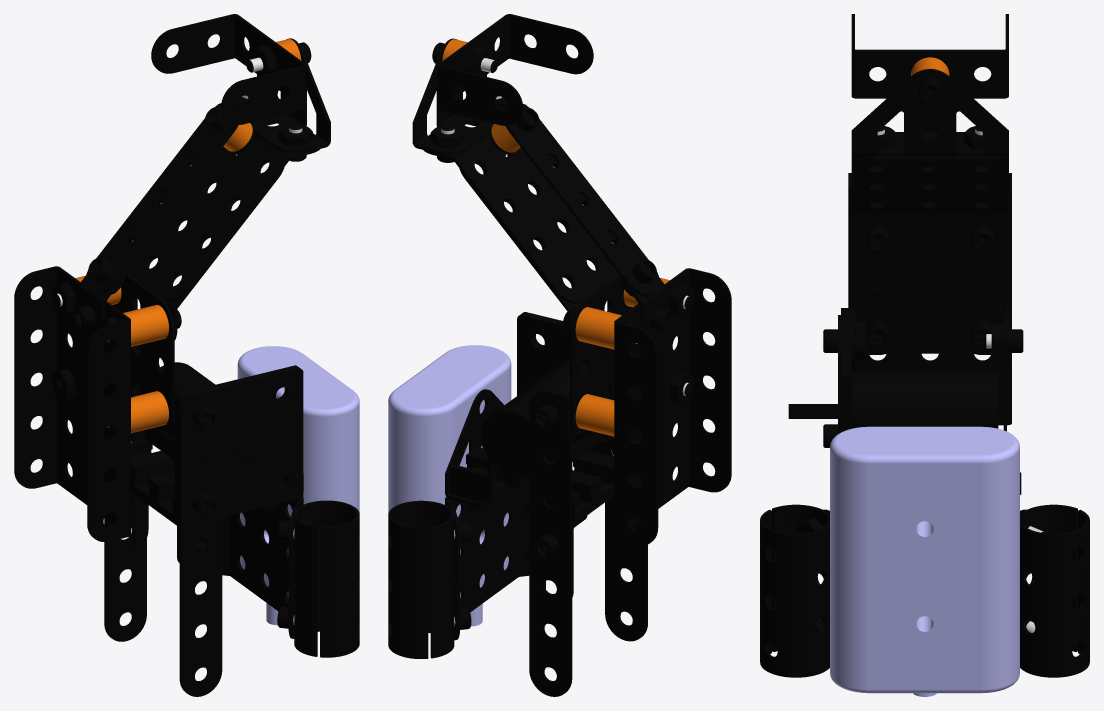
3 views of the same model, side by side, from view 1: azimuth 30°, elevation 25°; view 2: azimuth 150°, elevation 25°; view 3: azimuth 270°, elevation 25° (orthographic). The views are drawn at different scales.
Parts seen in each view (by area): view 1: matte zinc, polished nickel, matte zinc-4, cast iron, white-pw-mt11050, white-pw-mt11050-2; view 2: matte zinc, polished nickel, matte zinc-4, cast iron, white-pw-mt11050, white-pw-mt11050-2; view 3: white-pw-mt11050, matte zinc, polished nickel, matte zinc-4, cast iron, polished bronze.
Part boxes in pixels (box(x1,y1,x2,y2)): matte zinc: box(52, 14, 359, 696); polished nickel: box(14, 266, 174, 542); matte zinc-4: box(126, 103, 319, 638); cast iron: box(131, 362, 303, 527); white-pw-mt11050: box(237, 346, 359, 625); white-pw-mt11050-2: box(75, 39, 301, 433); matte zinc: box(388, 14, 693, 696); polished nickel: box(570, 268, 731, 546); matte zinc-4: box(423, 104, 619, 640); cast iron: box(450, 312, 614, 524); white-pw-mt11050: box(388, 345, 511, 626); white-pw-mt11050-2: box(442, 39, 669, 436); white-pw-mt11050: box(830, 426, 1019, 696); matte zinc: box(760, 14, 1089, 677); polished nickel: box(848, 173, 1011, 425); matte zinc-4: box(814, 155, 1035, 621); cast iron: box(841, 308, 998, 432); polished bronze: box(788, 404, 840, 418).
Size of the model in its own units: 8.49 by 17.62 by 7.99.
